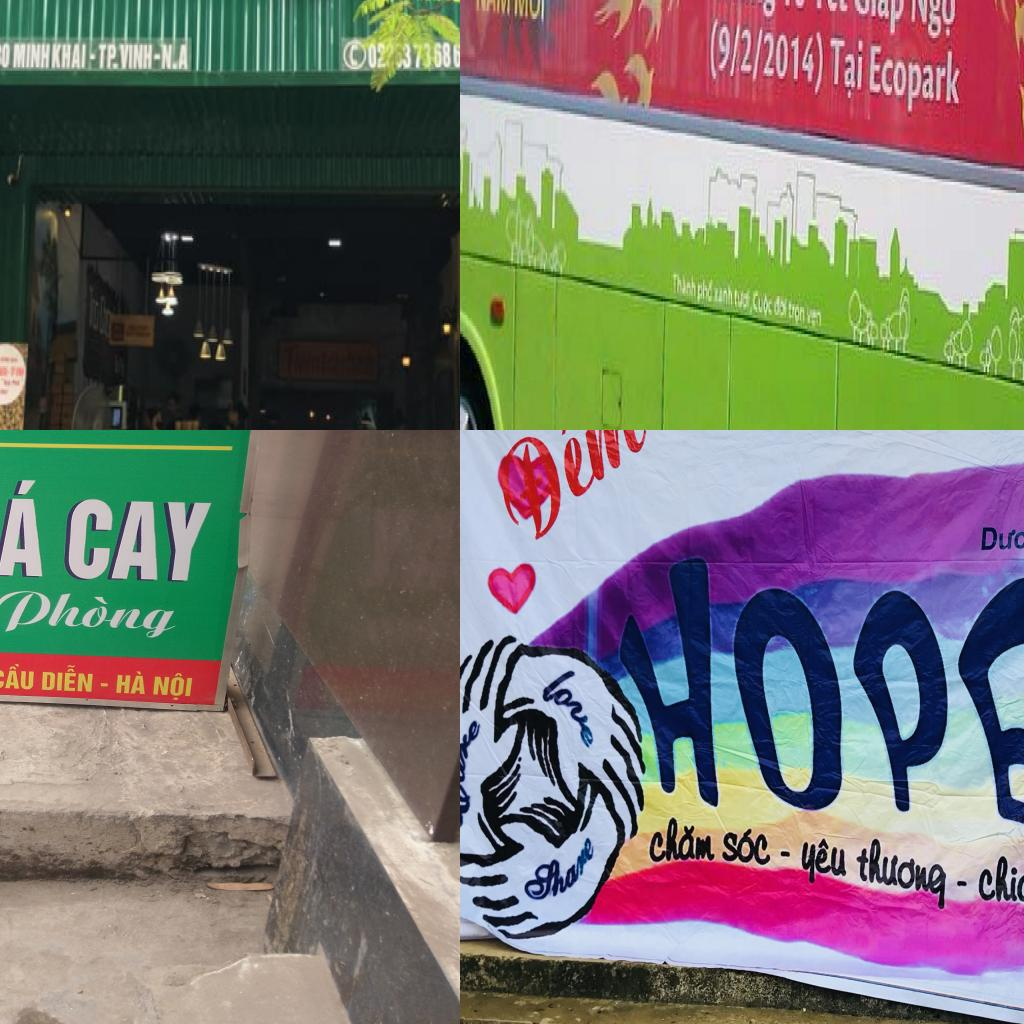text: (587, 550, 1024, 839), (482, 430, 656, 559), (61, 490, 216, 584), (0, 586, 181, 641), (870, 32, 966, 128), (853, 826, 947, 916), (516, 832, 602, 921), (533, 654, 606, 751), (0, 473, 50, 580), (645, 816, 717, 866), (368, 38, 460, 75), (827, 27, 867, 106), (762, 30, 815, 87), (797, 830, 849, 888), (717, 822, 774, 872), (905, 0, 959, 51), (974, 850, 1024, 905), (849, 0, 907, 46), (38, 663, 95, 694), (978, 523, 1024, 559), (711, 0, 779, 21), (51, 44, 101, 72), (152, 672, 196, 702), (511, 0, 549, 30), (122, 44, 162, 72), (706, 14, 722, 84), (670, 264, 698, 304), (715, 19, 732, 84), (13, 44, 52, 72), (0, 662, 36, 692), (738, 24, 754, 82), (162, 44, 192, 74), (727, 22, 742, 82), (812, 27, 824, 101), (752, 283, 774, 323), (114, 669, 146, 696), (810, 0, 851, 21), (733, 280, 753, 323), (751, 24, 764, 87), (87, 282, 102, 336), (474, 0, 512, 21), (713, 277, 734, 315), (696, 269, 715, 310), (772, 288, 789, 331), (788, 293, 806, 329), (100, 44, 122, 72), (806, 302, 823, 334), (779, 0, 807, 16), (0, 39, 12, 72), (777, 845, 792, 860), (953, 876, 969, 889)
